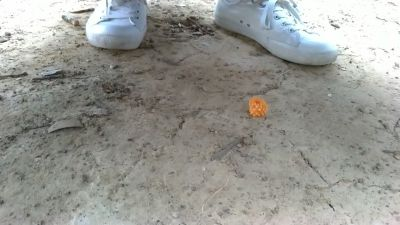eggs: (247, 94, 273, 121)
